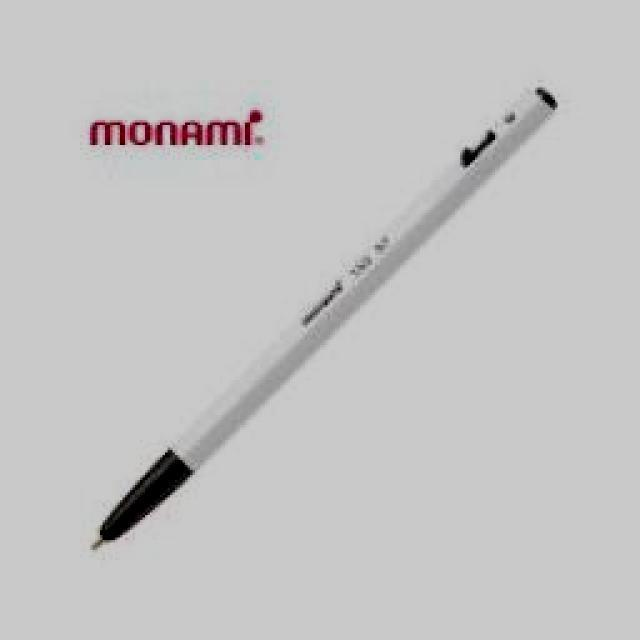pen: (85, 83, 560, 558)
